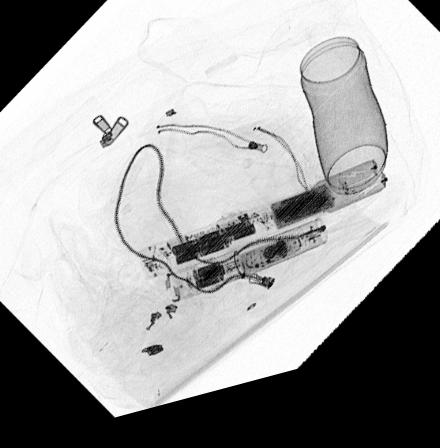Baton: (139, 177, 389, 287), (164, 233, 330, 312)
